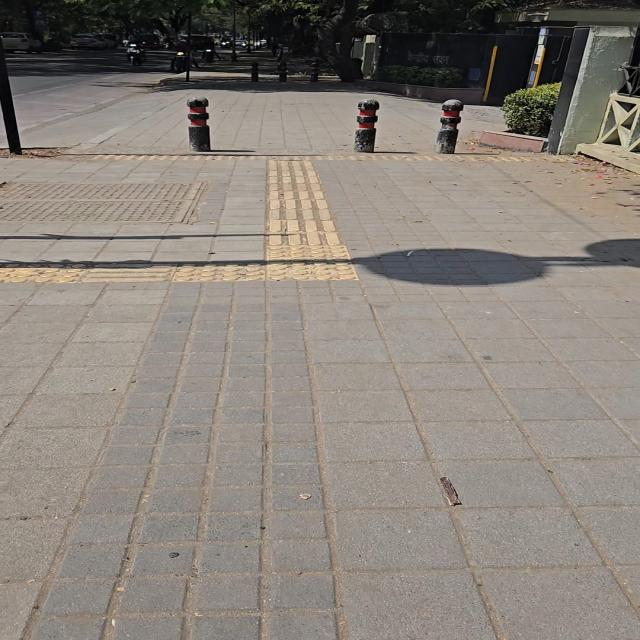bike: (0, 183, 202, 222), (0, 38, 21, 154), (435, 100, 463, 153), (354, 99, 379, 152), (187, 96, 210, 151), (127, 42, 145, 65), (185, 13, 191, 81), (231, 0, 237, 61), (171, 51, 186, 73), (246, 10, 251, 52)
